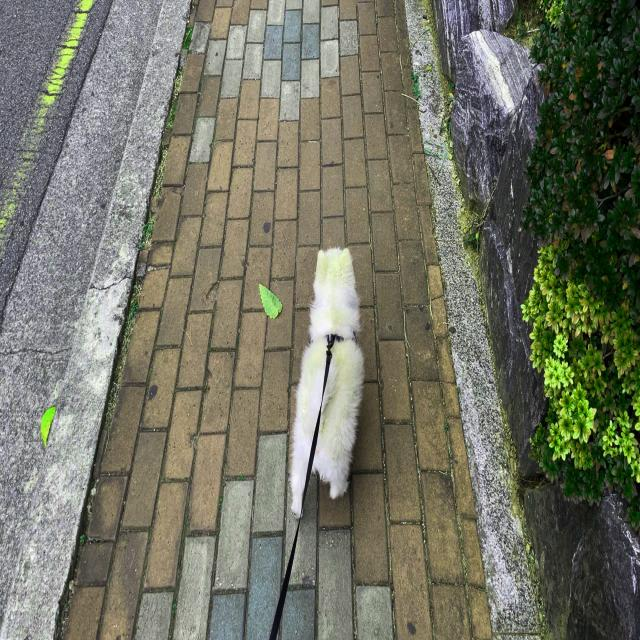Dog: (290, 249, 365, 515)
